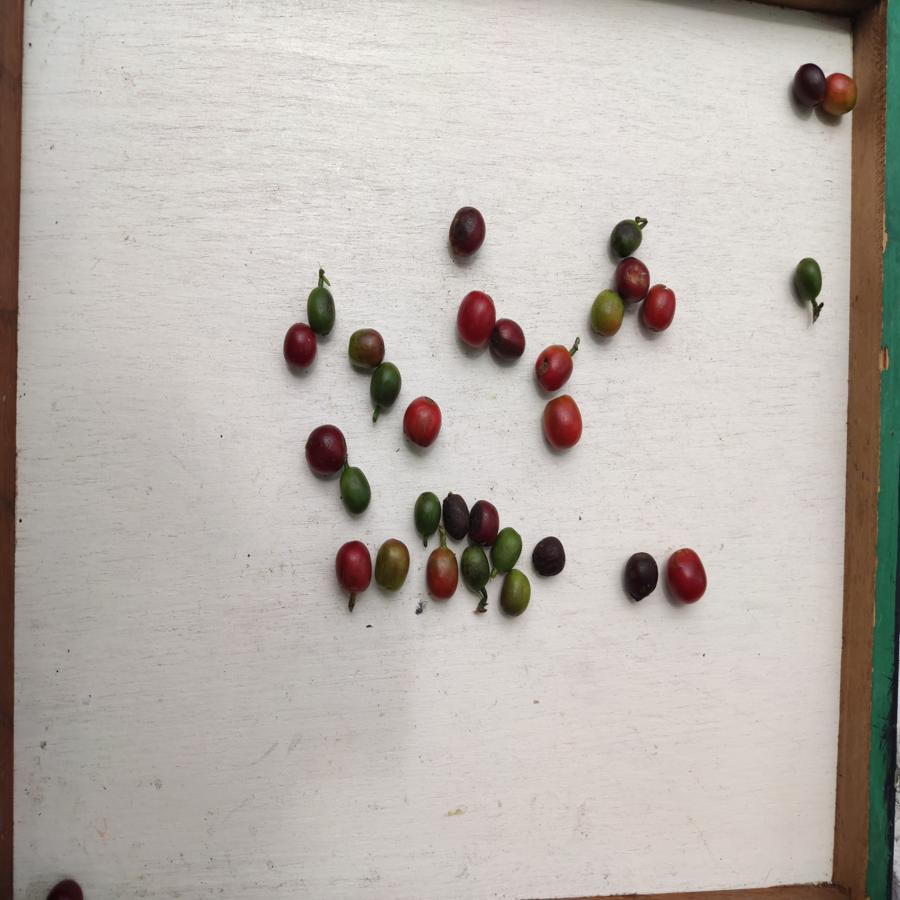Inmaduro: (791, 255, 829, 306), (340, 465, 377, 514), (310, 282, 340, 338), (412, 490, 443, 540), (369, 363, 403, 408), (608, 219, 648, 255), (460, 545, 490, 589), (496, 527, 523, 572)
Maduro: (450, 290, 495, 353), (666, 545, 709, 607), (396, 396, 443, 451), (543, 395, 585, 450), (331, 538, 371, 594), (637, 284, 677, 335), (532, 345, 576, 388), (617, 257, 655, 303)
Pinton: (372, 538, 411, 596), (428, 543, 461, 601), (587, 289, 623, 337), (823, 72, 859, 118), (346, 329, 386, 370), (501, 568, 533, 618)
Sobremaduro: (305, 422, 346, 478), (446, 204, 485, 260), (625, 546, 658, 604), (530, 535, 571, 578), (492, 318, 528, 365), (281, 323, 315, 371), (466, 499, 499, 545), (792, 64, 825, 109), (444, 491, 470, 541), (40, 878, 90, 900)
